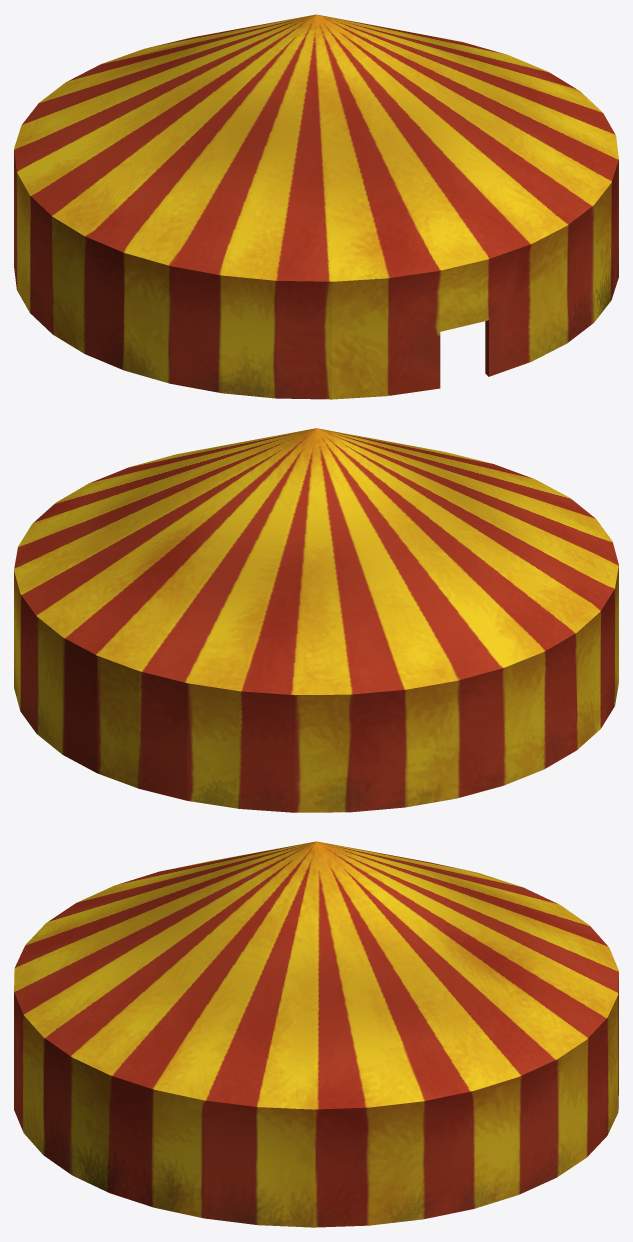
The model's file is teltta_ulkoa_uv_textures.fbx.
3 renders of one model, top to bottom at view 1: azimuth 30°, elevation 25°; view 2: azimuth 150°, elevation 25°; view 3: azimuth 270°, elevation 25°, orthographic.
Parts seen in each view (by area): view 1: TelttaULKOPUOLI.002; view 2: TelttaULKOPUOLI.002; view 3: TelttaULKOPUOLI.002.
Boxes of the visible parts, <box> form: TelttaULKOPUOLI.002: <box>14,14,618,399</box>; TelttaULKOPUOLI.002: <box>14,428,618,812</box>; TelttaULKOPUOLI.002: <box>14,841,618,1227</box>.
Size of the model in its own units: 6479 by 3038 by 6457.
Materials: 1 (1 with a texture image).
